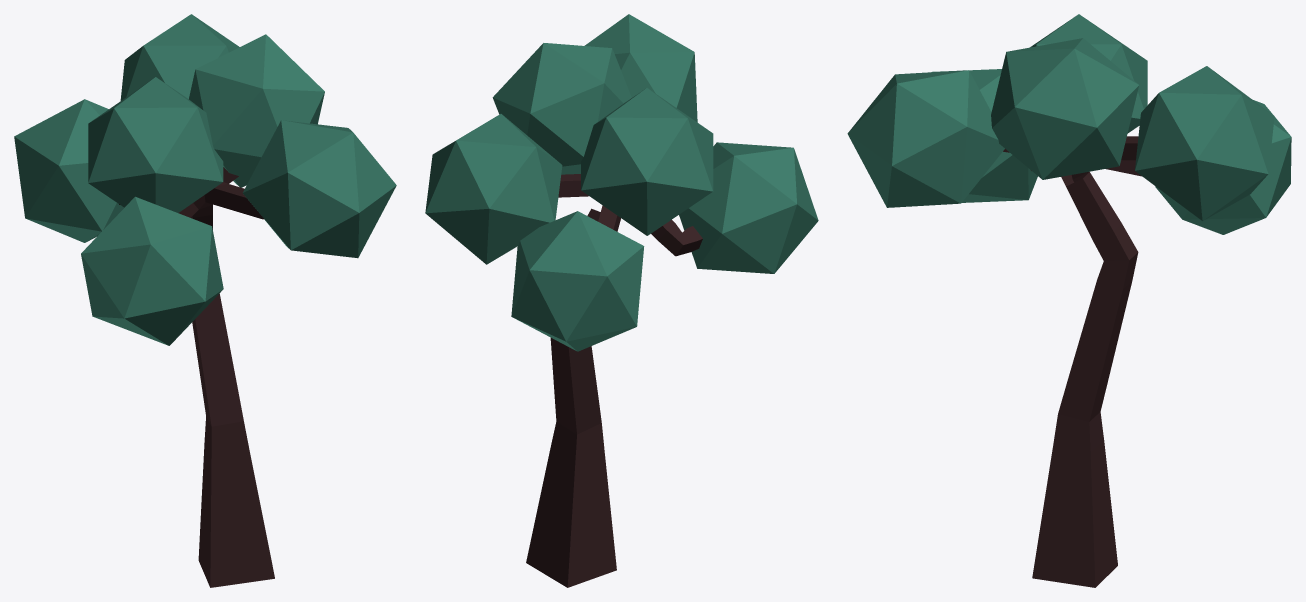
Rendered from mid_tree.fbx.
3 views of the same model, side by side, from view 1: azimuth 30°, elevation 25°; view 2: azimuth 150°, elevation 25°; view 3: azimuth 270°, elevation 25° (orthographic). The views are drawn at different scales.
Parts seen in each view (by area): view 1: Icosphere.001, Cube; view 2: Icosphere.001, Cube; view 3: Icosphere.001, Cube.
Part boxes in pixels (x1,y1,x2,y2): Icosphere.001: [14, 14, 396, 345]; Cube: [119, 167, 274, 587]; Icosphere.001: [425, 14, 818, 351]; Cube: [526, 174, 702, 587]; Icosphere.001: [847, 14, 1291, 234]; Cube: [1003, 136, 1141, 587].
Size of the model in its own units: 888 by 1633 by 1218.
